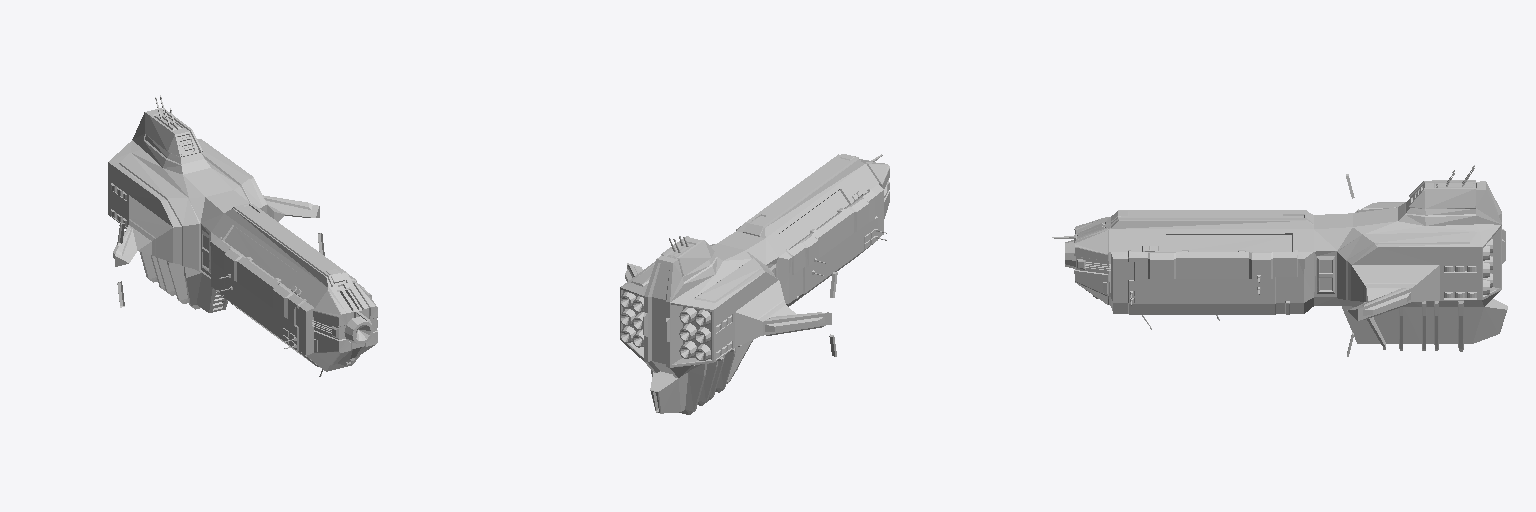
Rendered from bst_ionarrayfrigate.obj.
The picture shows the model from 3 angles: view 1: azimuth 30°, elevation 25°; view 2: azimuth 150°, elevation 25°; view 3: azimuth 270°, elevation 25°; orthographic projection.
Parts seen in each view (by area): view 1: Tur_IonArrayFrigate; view 2: Tur_IonArrayFrigate, Tur_IonArrayFrigateEngine; view 3: Tur_IonArrayFrigate, Tur_IonArrayFrigateEngine.
Boxes of the visible parts, x1=… form: Tur_IonArrayFrigate: x1=108, y1=95, x2=377, y2=376; Tur_IonArrayFrigate: x1=621, y1=154, x2=889, y2=414; Tur_IonArrayFrigateEngine: x1=620, y1=259, x2=713, y2=377; Tur_IonArrayFrigate: x1=1052, y1=165, x2=1507, y2=356; Tur_IonArrayFrigateEngine: x1=1482, y1=182, x2=1505, y2=299.
Bounding box in the file's own units: 84.77 × 70.36 × 163.